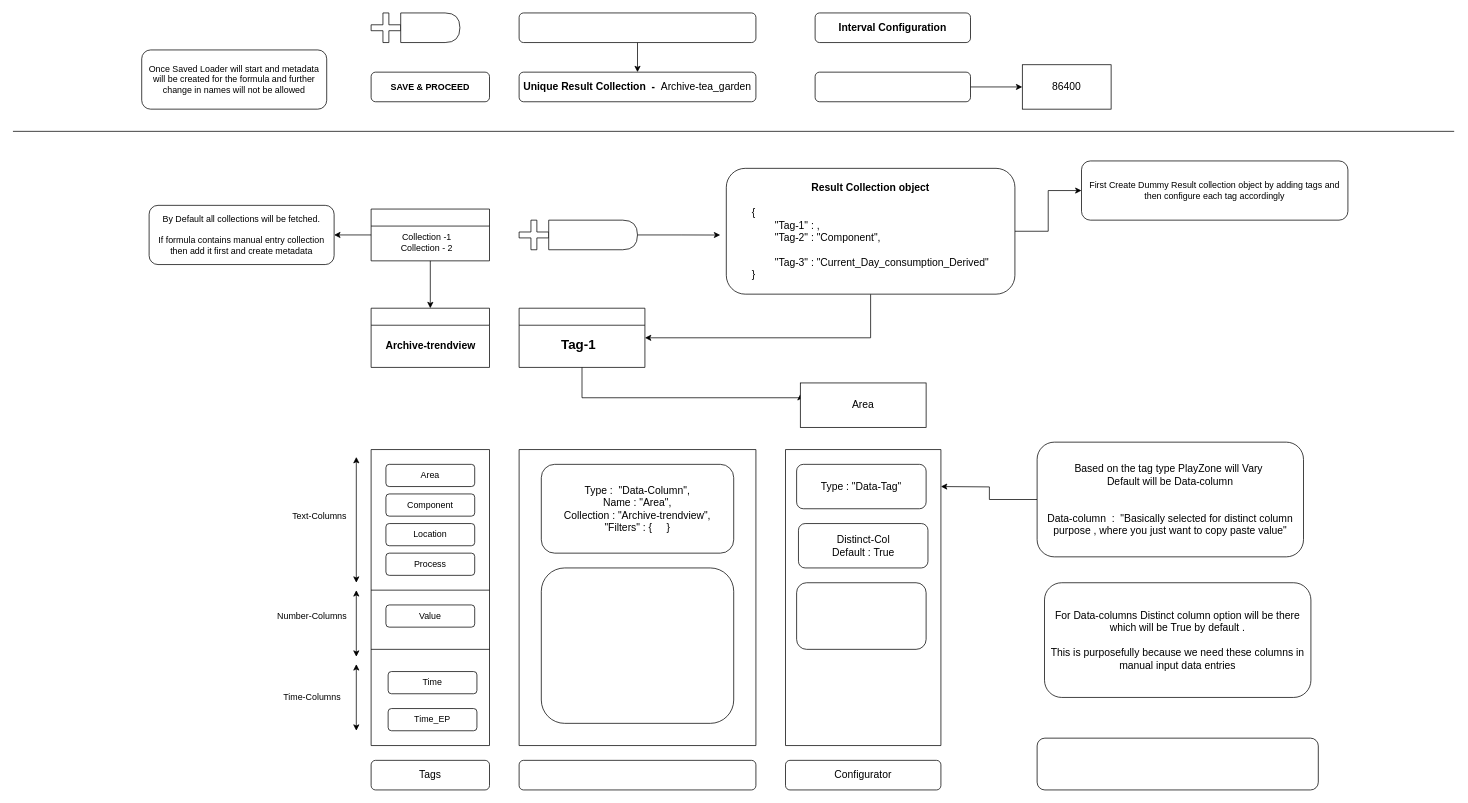
Image size: 1468x803. Some labels were removed from this diagram. The shapes that lost their labels are listed below. From the top down, each one's box as (x1, y1, x2, y2) in pixels, then its label:
(400, 12, 460, 43): ADD
(518, 12, 756, 43): Unique Formula Name - AGCL Consumption Calculator
(814, 71, 971, 102): How much secs ?
(370, 208, 490, 261): Data - collections
(548, 219, 638, 250): Result Tag
(370, 307, 490, 367): Selected Data-Coll
(518, 307, 645, 367): Configurating Tag
(796, 582, 926, 649): Filters will be here Filters will be available for data-columns only
(541, 567, 734, 723): Drag a column here Area
(518, 760, 756, 790): PlayZone
(1036, 737, 1318, 790): For Data And Derived Column Changing of DS_ID will be Locked
